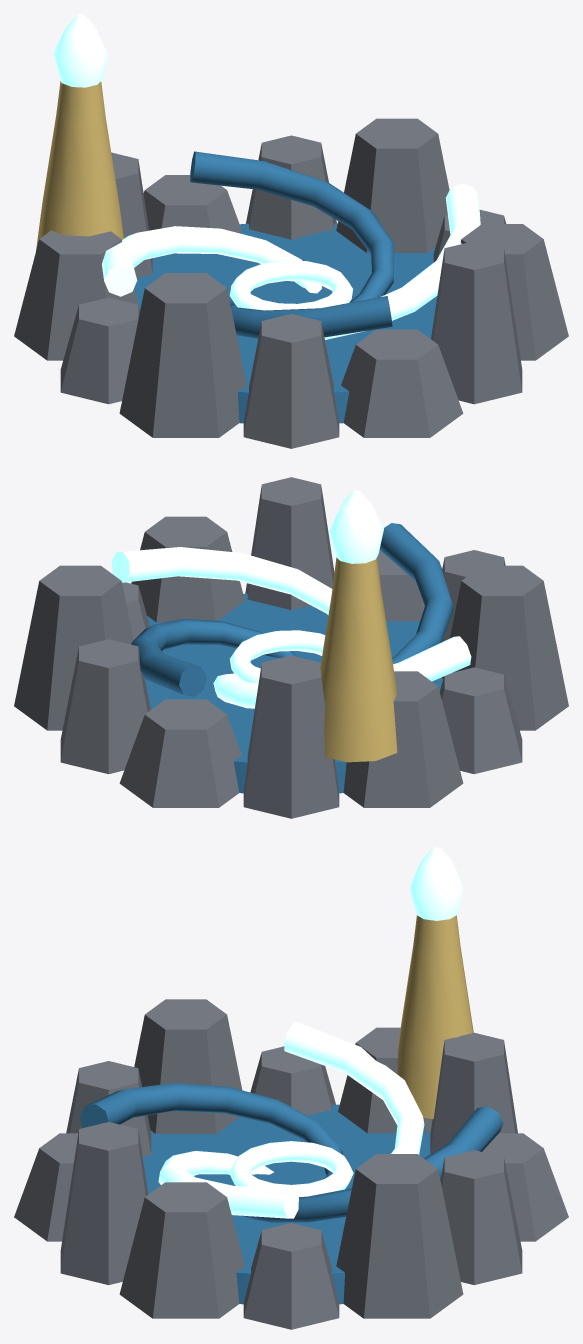
Rendered from prop_whirlpool.glb.
The picture shows the model from 3 angles, top to bottom: view 1: azimuth 30°, elevation 25°; view 2: azimuth 150°, elevation 25°; view 3: azimuth 270°, elevation 25°; orthographic projection.
Parts seen in each view (by area): view 1: Body, WhirlpoolVortex; view 2: Body, WhirlpoolVortex; view 3: Body, WhirlpoolVortex.
Boxes of the visible parts, x1=… form: Body: x1=14, y1=14, x2=568, y2=448; WhirlpoolVortex: x1=102, y1=151, x2=480, y2=339; Body: x1=14, y1=477, x2=568, y2=818; WhirlpoolVortex: x1=111, y1=523, x2=471, y2=708; Body: x1=14, y1=847, x2=568, y2=1329; WhirlpoolVortex: x1=79, y1=1022, x2=503, y2=1222.
Bounding box in the file's own units: 0.77 × 0.48 × 0.802.
